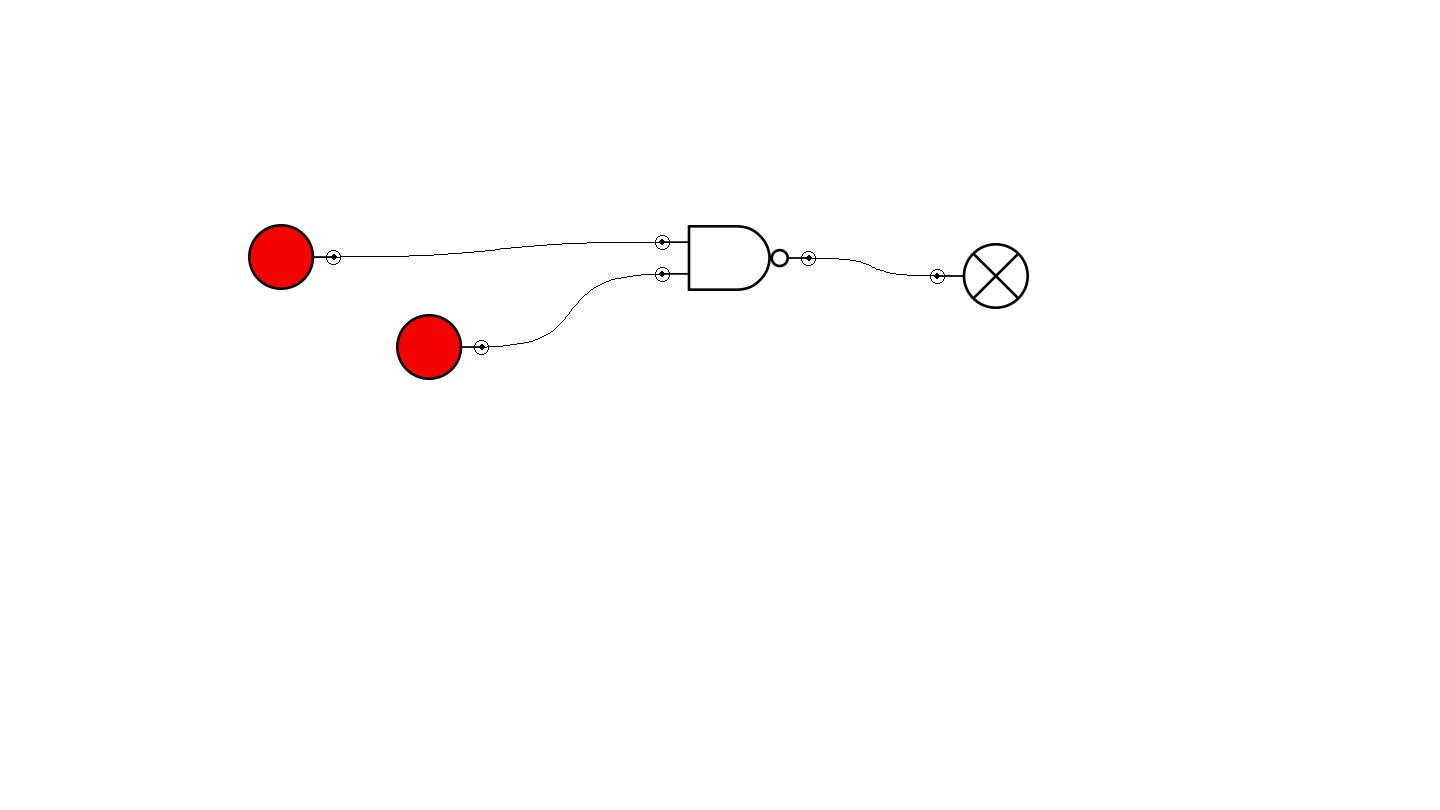bulb: (930, 243, 1029, 309)
nand: (655, 225, 816, 291)
switch_False: (396, 314, 489, 380), (248, 224, 341, 290)
